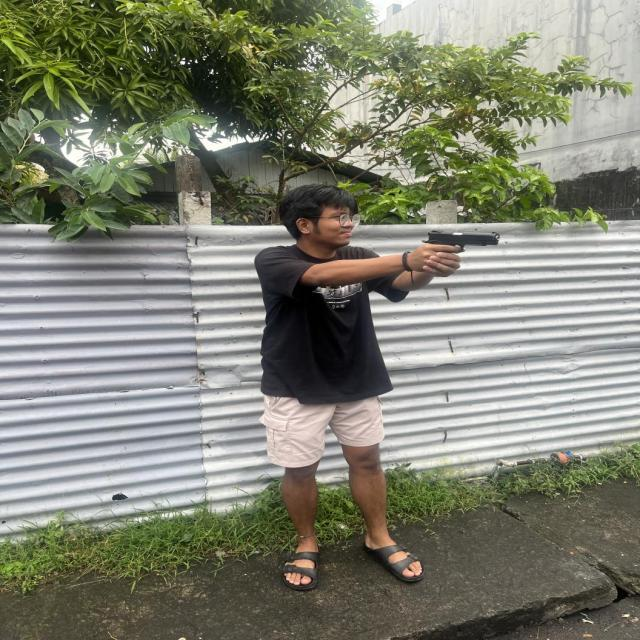pistol: (410, 208, 507, 266)
